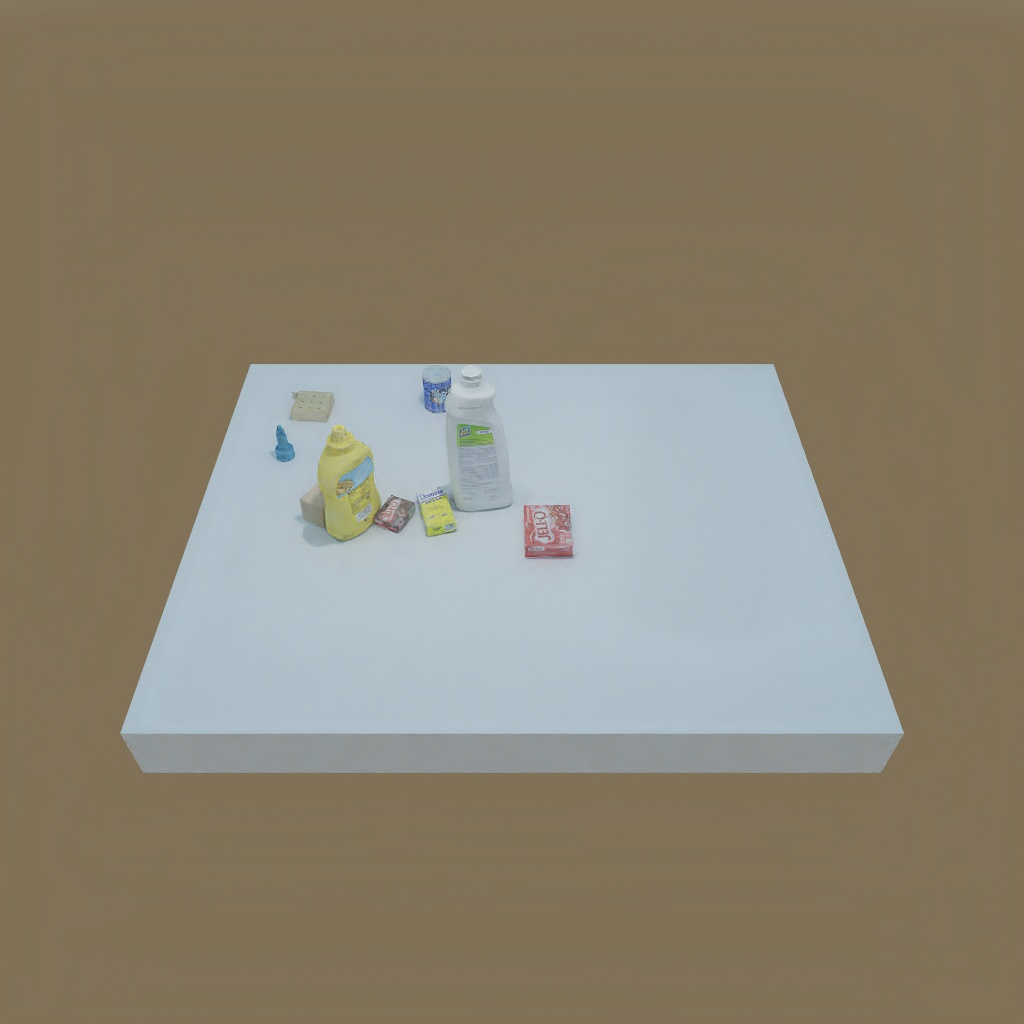gelatin_box: (518, 496, 582, 560)
master_chef_can: (416, 364, 453, 414)
mustard_bottle: (318, 423, 382, 541)
nine_hole_peg_test: (288, 387, 339, 423)
pudding_box: (368, 491, 417, 537)
wood_block: (301, 478, 339, 515)
